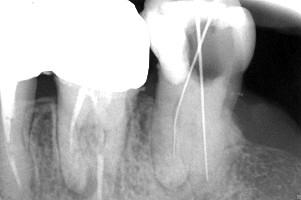Furcation Involvement: (60, 166, 98, 200)
